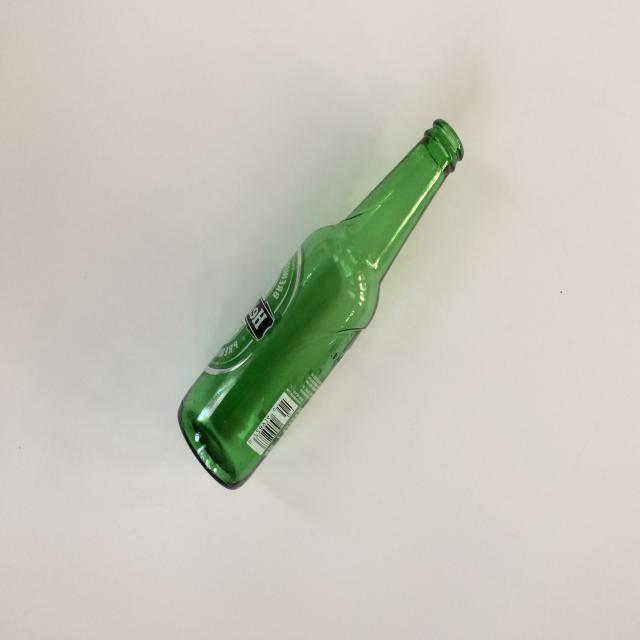glass: (177, 117, 465, 490)
